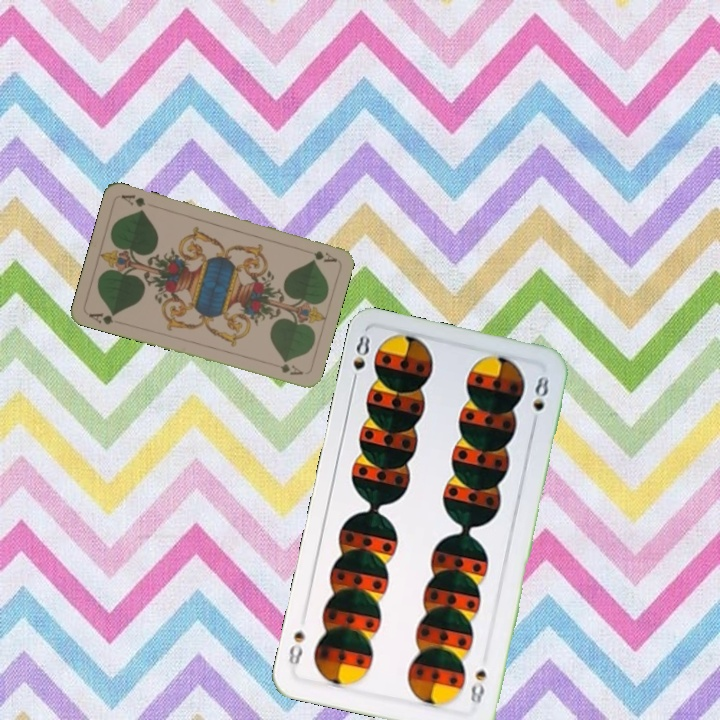GA: (84, 308, 118, 327), (309, 246, 339, 265)
S8: (347, 330, 373, 389), (466, 665, 489, 707)
